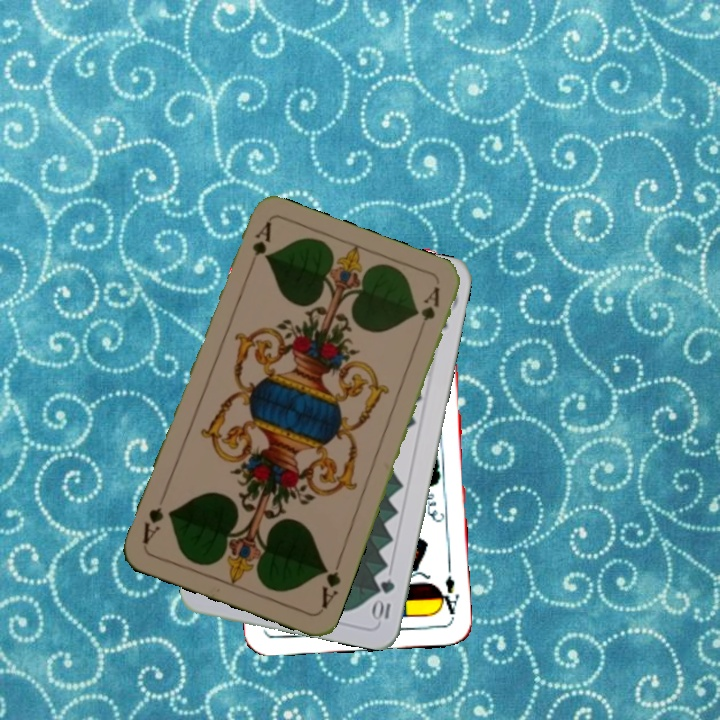EA: (434, 571, 462, 620)
G10: (370, 574, 397, 624)
GA: (244, 218, 274, 275), (317, 555, 344, 611)
